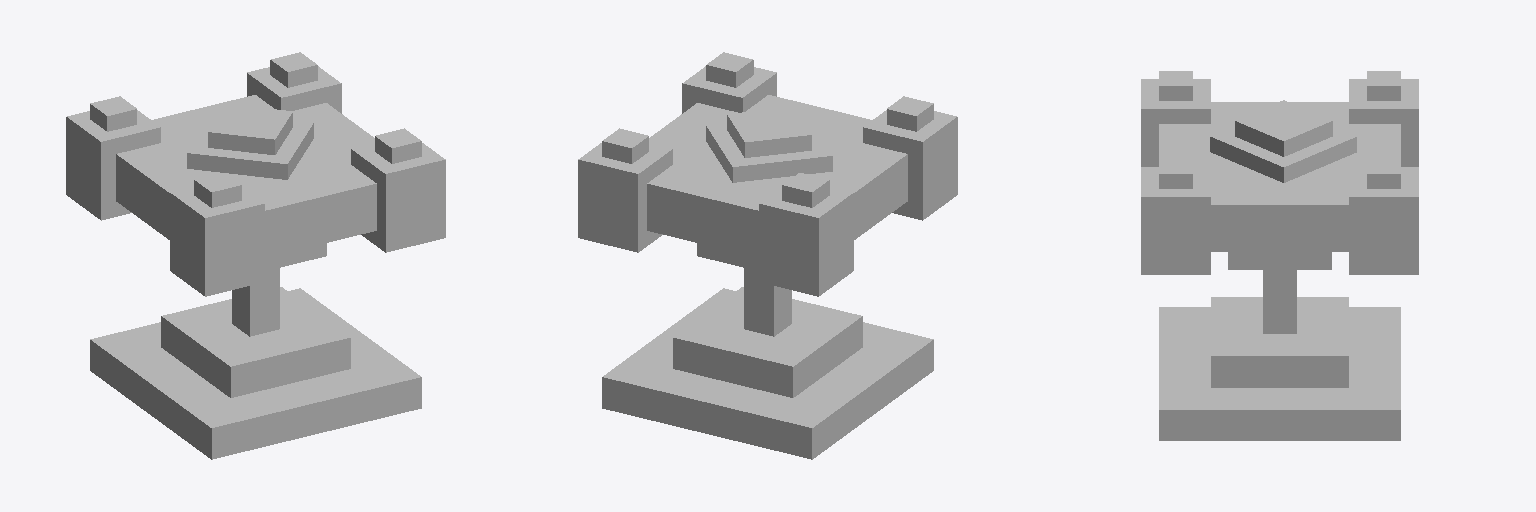
Rendered from Altar.obj.
3 renders of one model, left to right at view 1: azimuth 30°, elevation 25°; view 2: azimuth 150°, elevation 25°; view 3: azimuth 270°, elevation 25°, orthographic.
Parts seen in each view (by area): view 1: cube, body, 4, 1, 3, 2, 7, 5, 8, 6; view 2: cube, body, 3, 2, 4, 1, 6, 8, 5, 7; view 3: cube, body, 1, 2, 3, 4, 5, 6, 7, 8.
Part boxes in pixels (x1,y1,x2,y2): cube: (90,104,421,459); body: (116,95,376,257); 4: (170,187,264,296); 1: (351,143,445,252); 3: (66,110,160,220); 2: (247,66,341,113); 7: (270,52,317,87); 5: (194,173,241,207); 8: (90,96,136,131); 6: (375,128,421,163); cube: (602,107,933,459); body: (647,95,907,257); 3: (759,187,853,296); 2: (578,143,672,252); 4: (863,110,957,220); 1: (682,66,776,113); 6: (706,52,753,87); 8: (782,173,829,207); 5: (887,96,933,131); 7: (602,128,648,163); cube: (1159,100,1400,440); body: (1159,102,1400,251); 1: (1141,167,1210,274); 2: (1349,167,1418,274); 3: (1349,79,1418,166); 4: (1141,79,1210,166); 5: (1159,71,1192,100); 6: (1159,159,1192,188); 7: (1367,159,1400,188); 8: (1367,71,1400,100).
Size of the model in its own units: 1 by 1.06 by 1.